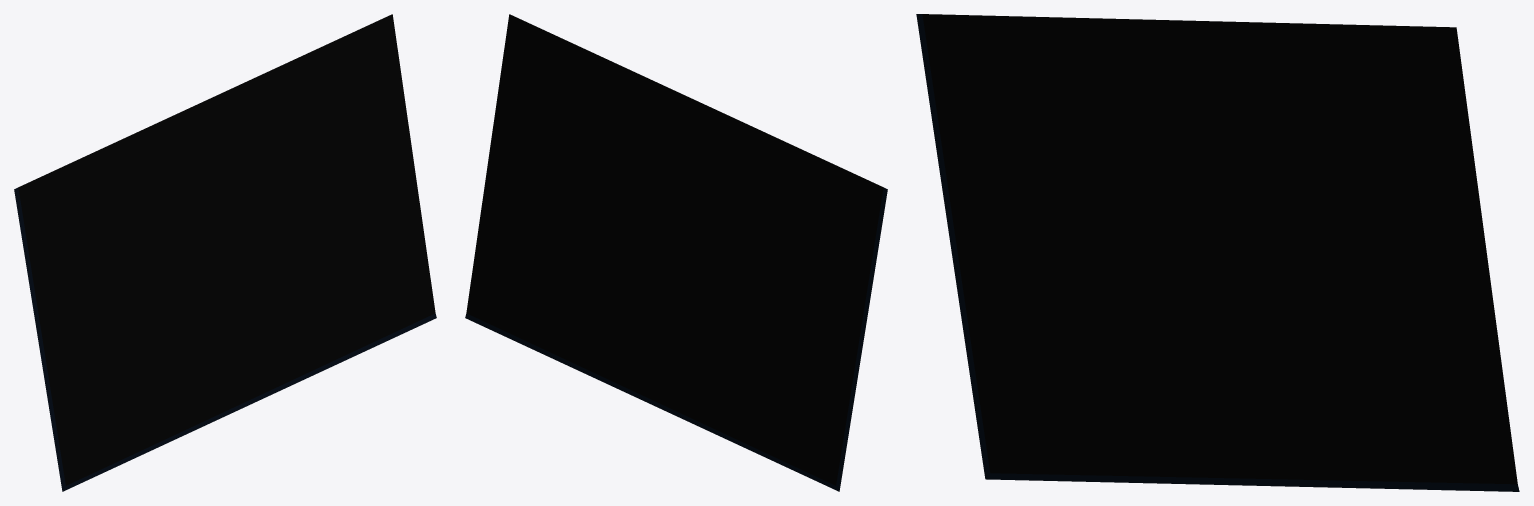
File: basePhotosPicE.glb
3 views of the same model, side by side, from view 1: azimuth 30°, elevation 25°; view 2: azimuth 150°, elevation 25°; view 3: azimuth 330°, elevation 25° (orthographic). The views are drawn at different scales.
Visible parts, largest first — view 1: basePhotosPicE; view 2: basePhotosPicE; view 3: basePhotosPicE.
Part boxes in pixels (<box>): basePhotosPicE: <box>14,14,436,491</box>; basePhotosPicE: <box>465,14,887,491</box>; basePhotosPicE: <box>916,14,1519,491</box>.
Bounding box in the file's own units: 0.5259 × 0.4724 × 0.
